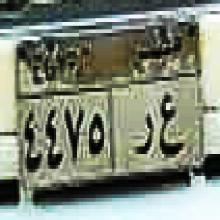4: (21, 108, 42, 179), (44, 105, 63, 172)
5: (87, 109, 105, 162)
7: (63, 103, 84, 168)
ain: (158, 90, 184, 159)
raa: (130, 110, 154, 164)
